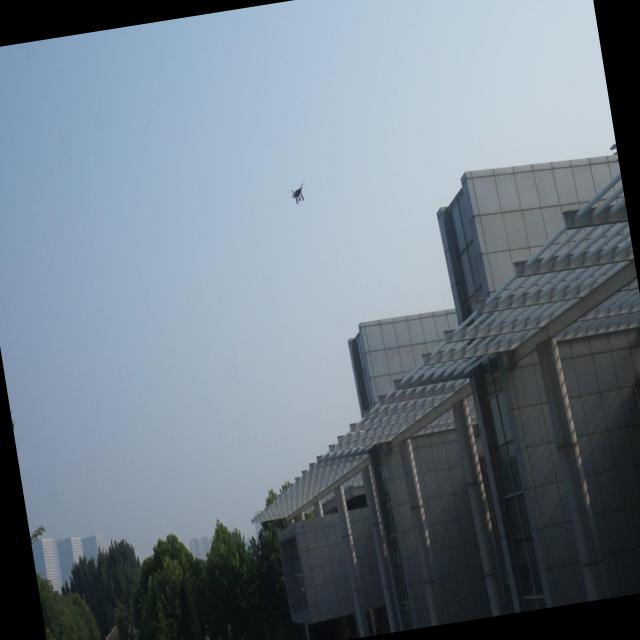drone: (286, 178, 310, 208)
